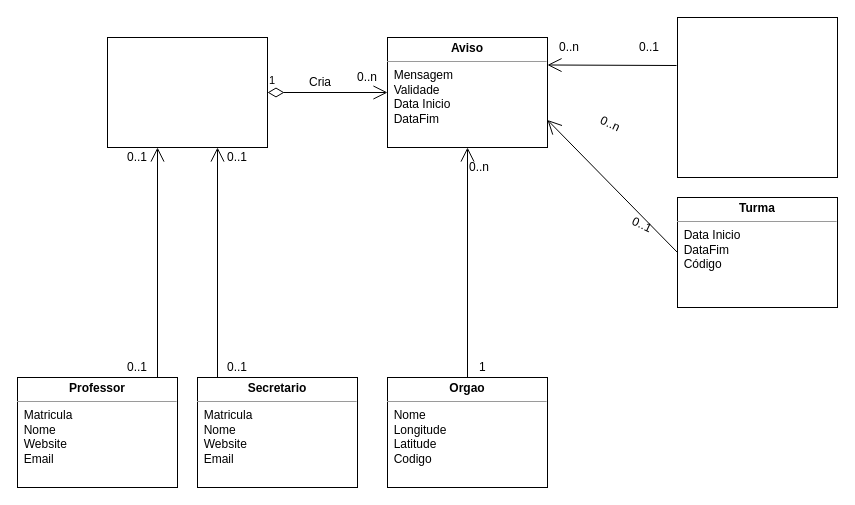
Image size: 855x505. Some labels were removed from this diagram. Each missing label, with the centre of its shape:
Sala Nome Código Capacidade Restrita Latitude Longitude Andar OBS: (x=757, y=97)
UsuarioGenerico Nome Login Senha Permissão: (x=187, y=92)
